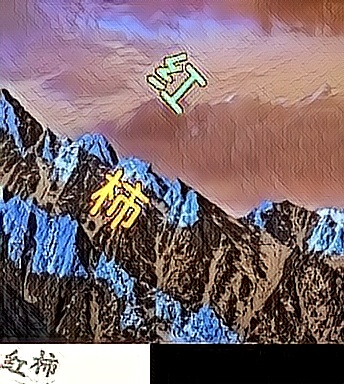BAEC: (146, 52, 208, 116)
CAC1: (88, 165, 150, 229)
